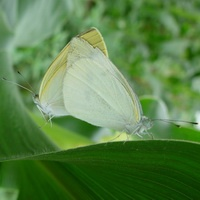insect: (0, 28, 199, 158)
